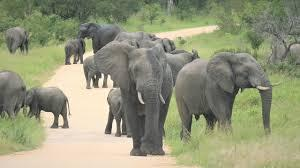elephant: (65, 23, 271, 155), (0, 71, 68, 127), (6, 28, 27, 52)
